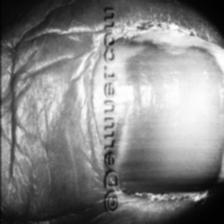Toxin: (98, 27, 224, 194)
